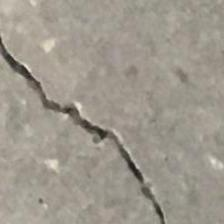Crack: (0, 45, 193, 223)
